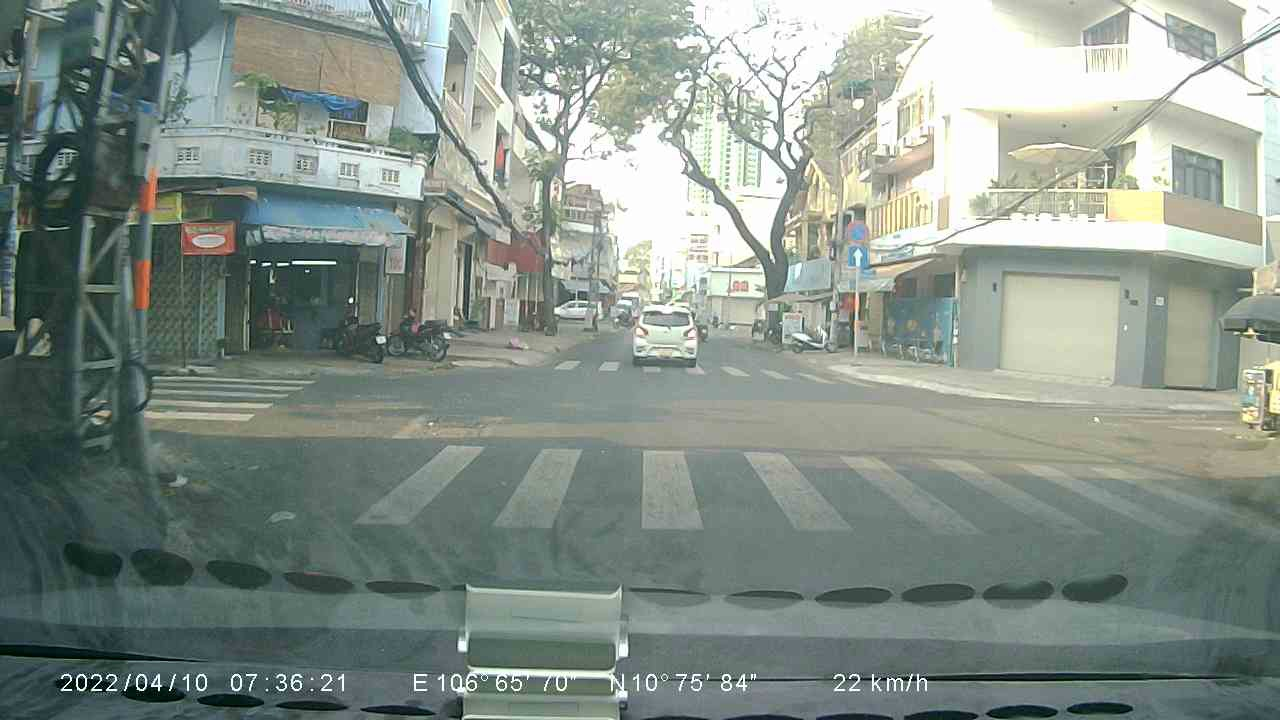Bien khac: (845, 244, 869, 266)
Cam do xe: (840, 217, 868, 246)
